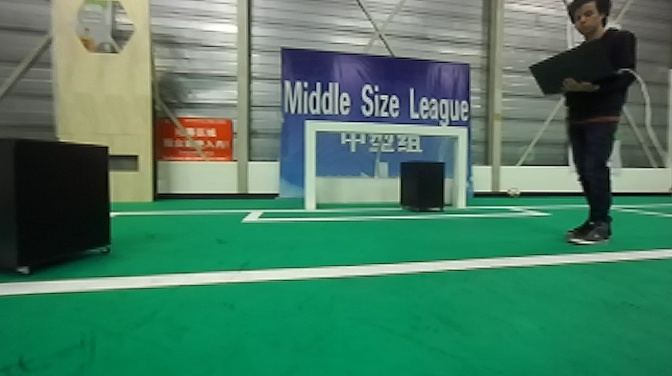goalpost: (450, 123, 470, 209), (301, 118, 317, 213)
human: (527, 2, 645, 257)
